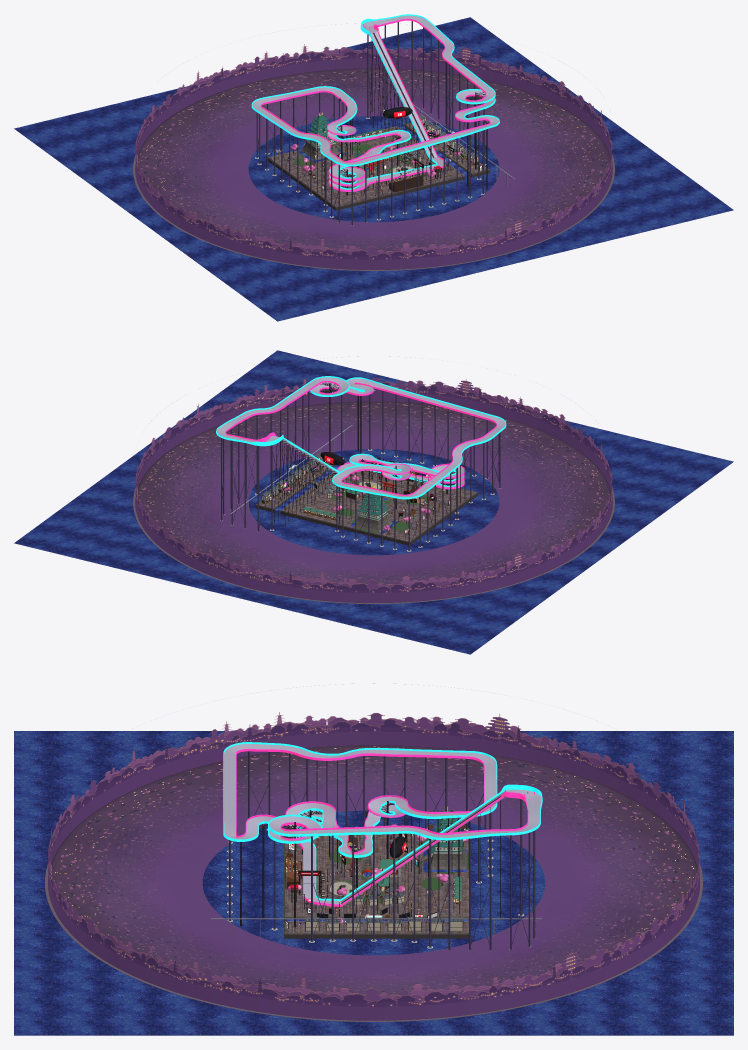
File: osaka_world.glb
3 views of the same model, one above another, from view 1: azimuth 30°, elevation 25°; view 2: azimuth 150°, elevation 25°; view 3: azimuth 270°, elevation 25° (orthographic). The views are drawn at different scales.
Visible parts, largest first — view 1: LP3_bg_far_ground, SEA, LP3_bg_horizon_band, TRACK_floor, GROUND_plaza, TRACK_rail_outer_pink, TRACK_rail_inner_cyan, TRACK_bay_braces, TRACK_portal_frames, GROUND_edge, PROP_osaka_castle; view 2: LP3_bg_far_ground, SEA, LP3_bg_horizon_band, GROUND_plaza, TRACK_floor, TRACK_rail_inner_cyan, TRACK_rail_outer_pink, TRACK_portal_frames, TRACK_bay_braces, PROP_osaka_castle, GROUND_edge; view 3: LP3_bg_far_ground, SEA, LP3_bg_horizon_band, TRACK_floor, GROUND_plaza, TRACK_rail_inner_cyan, TRACK_rail_outer_pink, PROP_osaka_castle, TRACK_bay_braces, GROUND_edge, TRACK_portal_frames, VIG_tram_guideway.
Boxes of the visible parts, x1,y1,x2,y2 form: LP3_bg_far_ground: (133, 68, 614, 270); SEA: (14, 17, 733, 321); LP3_bg_horizon_band: (135, 44, 612, 269); TRACK_floor: (252, 15, 498, 189); GROUND_plaza: (268, 122, 489, 207); TRACK_rail_outer_pink: (260, 18, 490, 191); TRACK_rail_inner_cyan: (251, 14, 499, 189); TRACK_bay_braces: (257, 58, 483, 221); TRACK_portal_frames: (369, 42, 428, 162); GROUND_edge: (267, 124, 489, 210); PROP_osaka_castle: (298, 113, 345, 162); LP3_bg_far_ground: (133, 401, 614, 603); SEA: (14, 350, 733, 654); LP3_bg_horizon_band: (135, 377, 612, 602); GROUND_plaza: (256, 462, 477, 542); TRACK_floor: (216, 377, 505, 497); TRACK_rail_inner_cyan: (216, 376, 506, 499); TRACK_rail_outer_pink: (225, 380, 497, 495); TRACK_portal_frames: (274, 440, 336, 525); TRACK_bay_braces: (222, 418, 499, 546); PROP_osaka_castle: (349, 486, 397, 533); GROUND_edge: (255, 465, 477, 545); LP3_bg_far_ground: (45, 745, 702, 1021); SEA: (14, 731, 733, 1035); LP3_bg_horizon_band: (48, 683, 699, 1020); TRACK_floor: (224, 744, 541, 906); GROUND_plaza: (285, 831, 468, 934); TRACK_rail_inner_cyan: (223, 742, 542, 900); TRACK_rail_outer_pink: (236, 749, 528, 906); PROP_osaka_castle: (420, 807, 467, 871); TRACK_bay_braces: (250, 785, 533, 944); GROUND_edge: (284, 836, 468, 938); TRACK_portal_frames: (346, 800, 500, 918); VIG_tram_guideway: (211, 918, 541, 919).
Bounding box in the file's own units: 420 × 82.23 × 420.
Materials: 152 (56 with a texture image).
